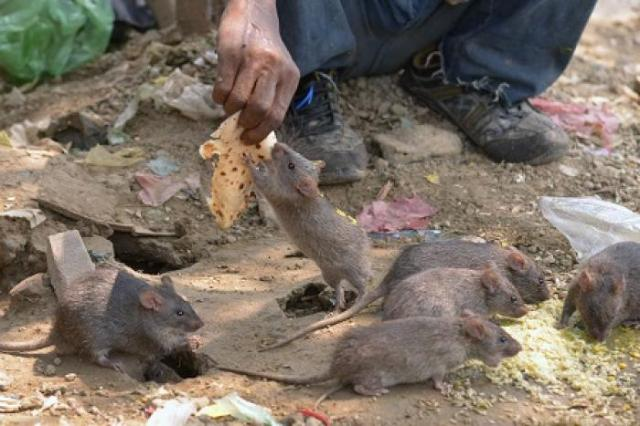rat: (233, 126, 381, 316), (1, 260, 210, 376), (326, 304, 532, 404), (369, 230, 559, 314), (371, 258, 533, 332), (550, 242, 638, 352)
